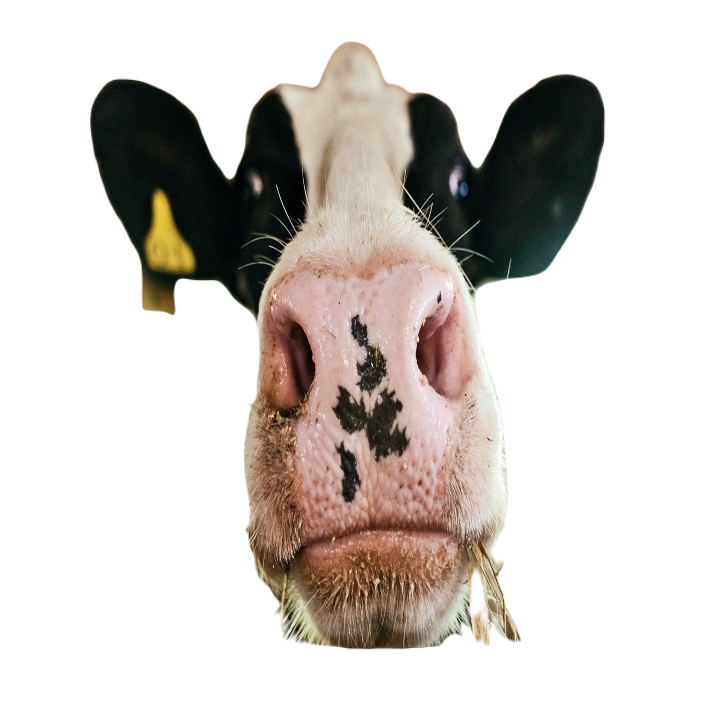Cow: (86, 40, 605, 653)
